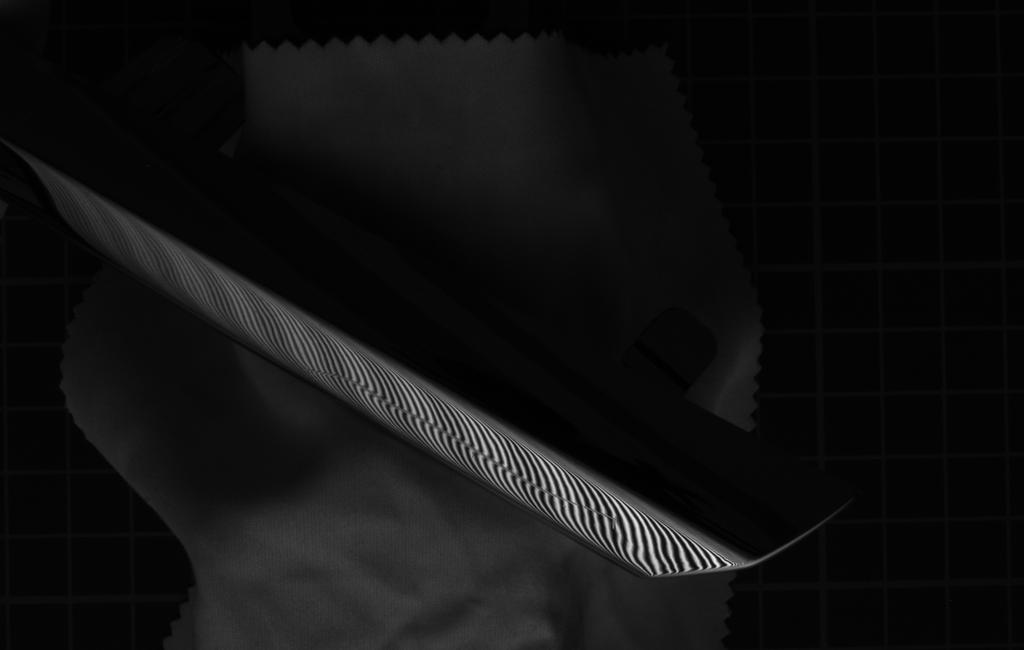Scratch: (301, 360, 643, 532)
